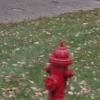Hydrant: (30, 35, 76, 100)
